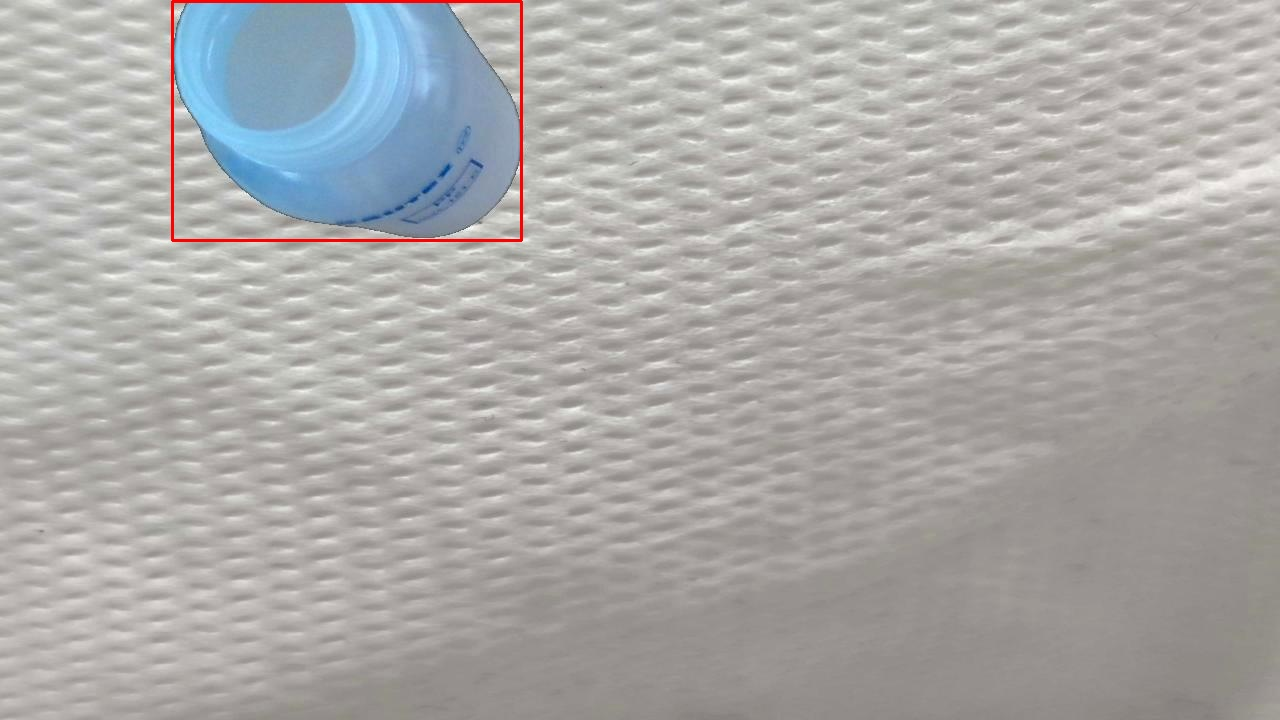cup: (172, 1, 521, 240)
